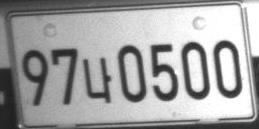0: (212, 39, 243, 99), (117, 43, 147, 103), (181, 41, 210, 100)
5: (149, 43, 179, 101)
7: (51, 48, 78, 105)
9: (21, 48, 49, 107)
나: (82, 56, 111, 103)
